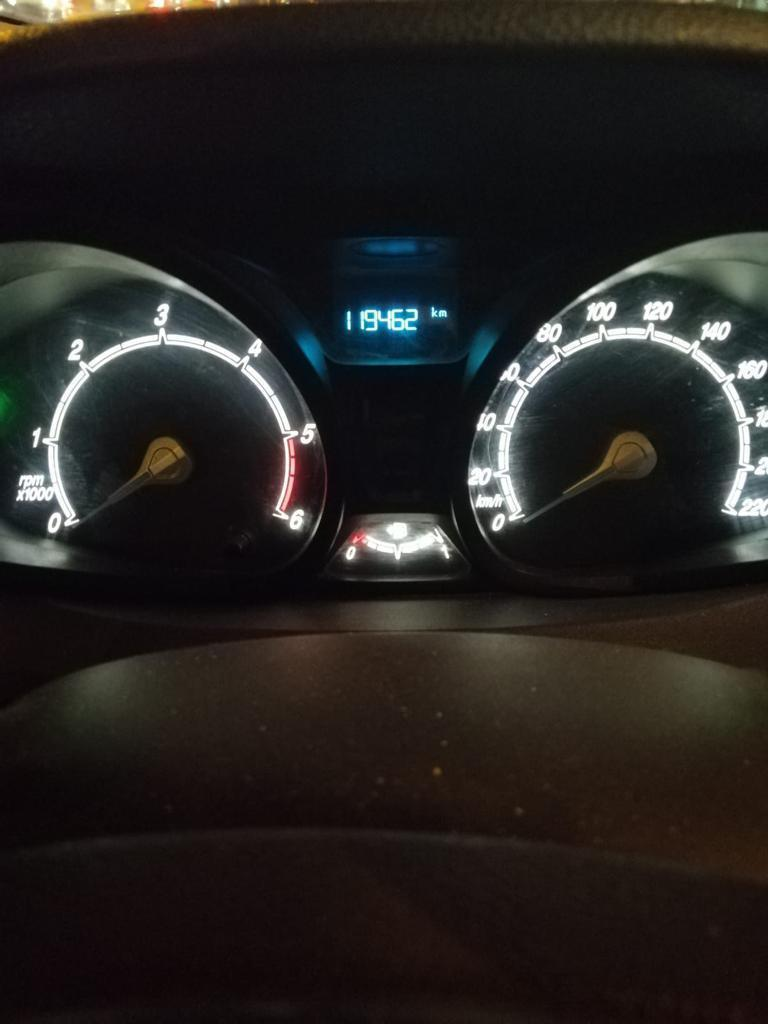1: (344, 309, 353, 331), (356, 309, 364, 331)
2: (405, 307, 418, 331)
4: (377, 309, 391, 330)
6: (391, 308, 404, 331)
9: (364, 308, 377, 332)
X: (430, 304, 437, 318), (437, 309, 448, 317)
odometer: (320, 293, 466, 353)
